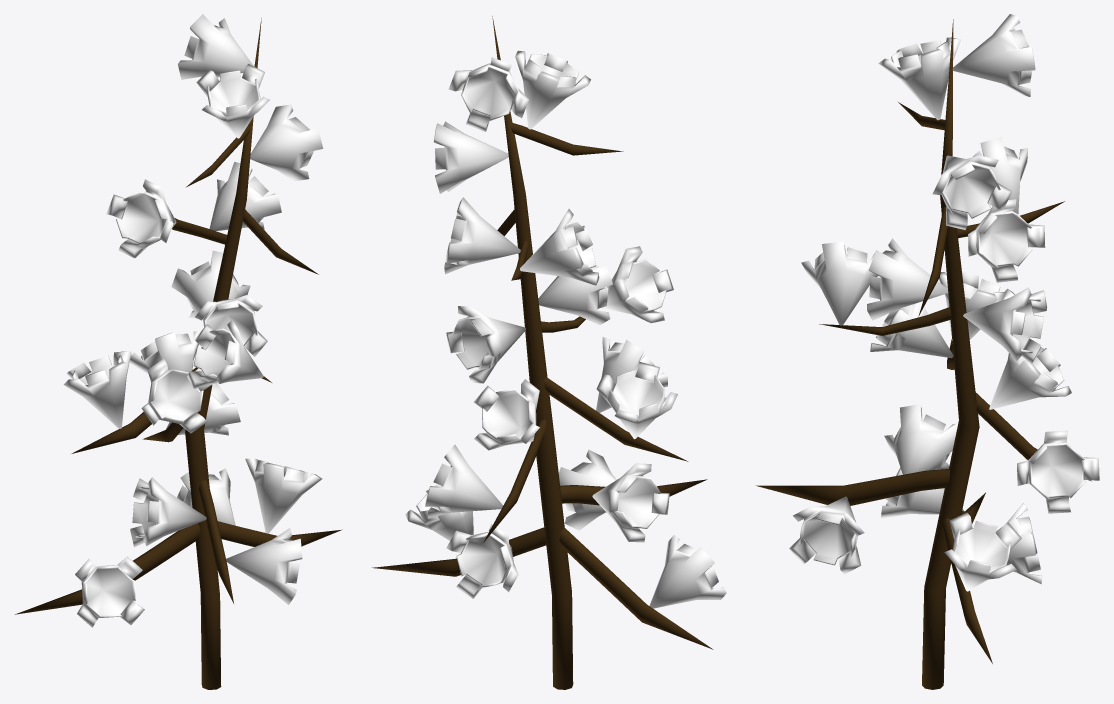
File: SMFol_HonkBush.fbx
3 views of the same model, side by side, from view 1: azimuth 30°, elevation 25°; view 2: azimuth 150°, elevation 25°; view 3: azimuth 270°, elevation 25° (orthographic). The views are drawn at different scales.
Parts seen in each view (by area): view 1: SM_HonkBush; view 2: SM_HonkBush; view 3: SM_HonkBush.
Part boxes in pixels (bbox=[...]): SM_HonkBush: bbox=[15, 14, 342, 689]; SM_HonkBush: bbox=[372, 16, 726, 689]; SM_HonkBush: bbox=[756, 14, 1099, 689].
Bounding box in the file's own units: 112 × 208 × 92.85.
